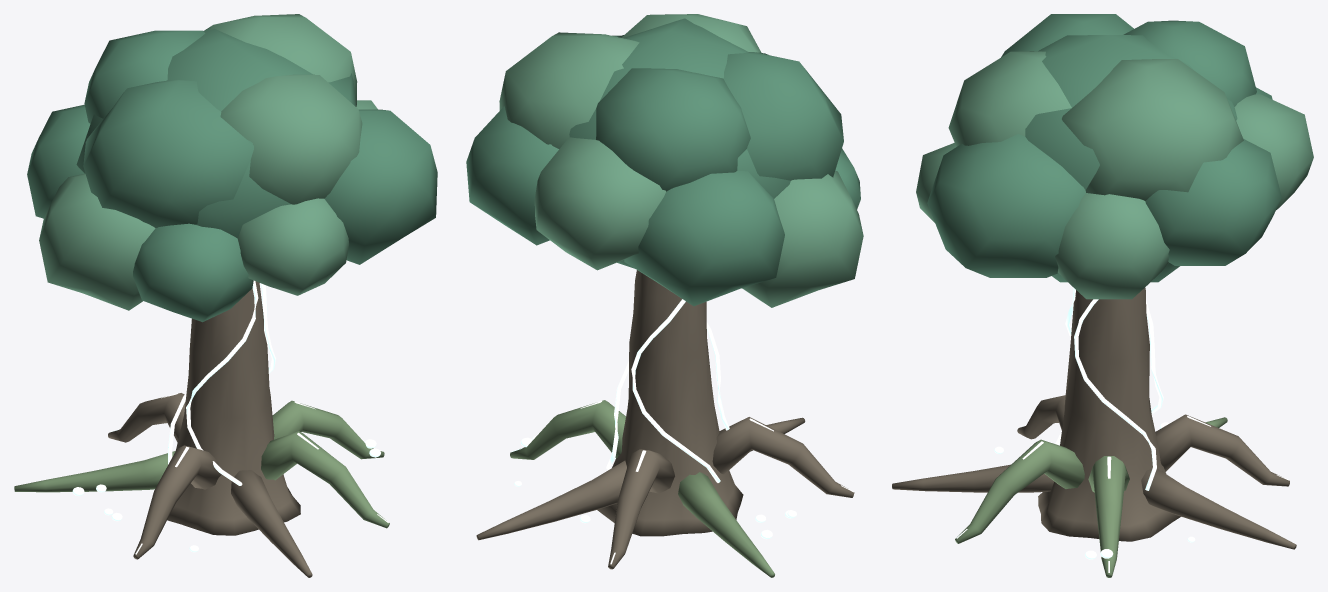
Rendered from grove_tree.glb.
The picture shows the model from 3 angles, left to right: view 1: azimuth 30°, elevation 25°; view 2: azimuth 150°, elevation 25°; view 3: azimuth 270°, elevation 25°; orthographic projection. The views are drawn at different scales.
Parts seen in each view (by area): view 1: Grove_Canopy_2, Grove_Trunk, Grove_Canopy_3, Grove_Canopy_12, Grove_Canopy_9, Grove_Canopy_0, Grove_Canopy_10, Grove_Canopy_11, Grove_Canopy_4, Grove_Canopy_1, Grove_Canopy_8, Grove_Root_6 (+6 smaller); view 2: Grove_Trunk, Grove_Canopy_8, Grove_Canopy_4, Grove_Canopy_7, Grove_Canopy_2, Grove_Canopy_1, Grove_Canopy_9, Grove_Canopy_6, Grove_Canopy_0, Grove_Root_4, Grove_Root_1, Grove_Root_2 (+5 smaller); view 3: Grove_Trunk, Grove_Canopy_1, Grove_Canopy_12, Grove_Canopy_6, Grove_Canopy_5, Grove_Canopy_0, Grove_Canopy_3, Grove_Canopy_4, Grove_Canopy_7, Grove_Root_6, Grove_Root_2, Grove_Root_1 (+7 smaller).
Part boxes in pixels (left/top/right/bottom): Grove_Canopy_2: left=83, top=79, right=253, bottom=227; Grove_Trunk: left=167, top=281, right=300, bottom=535; Grove_Canopy_3: left=220, top=74, right=362, bottom=204; Grove_Canopy_12: left=324, top=109, right=437, bottom=264; Grove_Canopy_9: left=39, top=173, right=155, bottom=310; Grove_Canopy_0: left=76, top=27, right=355, bottom=238; Grove_Canopy_10: left=133, top=223, right=253, bottom=322; Grove_Canopy_11: left=237, top=198, right=348, bottom=295; Grove_Canopy_4: left=84, top=30, right=205, bottom=123; Grove_Canopy_1: left=206, top=14, right=357, bottom=106; Grove_Canopy_8: left=27, top=104, right=90, bottom=218; Grove_Root_6: left=261, top=431, right=389, bottom=528; Grove_Trunk: left=597, top=270, right=743, bottom=536; Grove_Canopy_8: left=624, top=170, right=784, bottom=306; Grove_Canopy_4: left=596, top=68, right=750, bottom=191; Grove_Canopy_7: left=534, top=137, right=665, bottom=270; Grove_Canopy_2: left=723, top=52, right=843, bottom=180; Grove_Canopy_1: left=499, top=32, right=639, bottom=148; Grove_Canopy_9: left=742, top=171, right=863, bottom=307; Grove_Canopy_6: left=466, top=106, right=558, bottom=245; Grove_Canopy_0: left=569, top=18, right=790, bottom=268; Grove_Root_4: left=712, top=417, right=854, bottom=497; Grove_Root_1: left=476, top=460, right=626, bottom=540; Grove_Root_2: left=608, top=449, right=674, bottom=569; Grove_Trunk: left=1038, top=287, right=1180, bottom=541; Grove_Canopy_1: left=1062, top=59, right=1243, bottom=200; Grove_Canopy_12: left=927, top=134, right=1085, bottom=277; Grove_Canopy_6: left=1145, top=139, right=1281, bottom=265; Grove_Canopy_5: left=1055, top=193, right=1169, bottom=299; Grove_Canopy_0: left=1025, top=35, right=1237, bottom=282; Grove_Canopy_3: left=948, top=51, right=1071, bottom=146; Grove_Canopy_4: left=1123, top=20, right=1256, bottom=106; Grove_Canopy_7: left=1234, top=94, right=1313, bottom=209; Grove_Root_6: left=955, top=439, right=1084, bottom=543; Grove_Root_2: left=1155, top=414, right=1289, bottom=486; Grove_Root_1: left=1141, top=468, right=1296, bottom=549.
Bounding box in the file's own units: 6.36 × 8.15 × 6.56.
